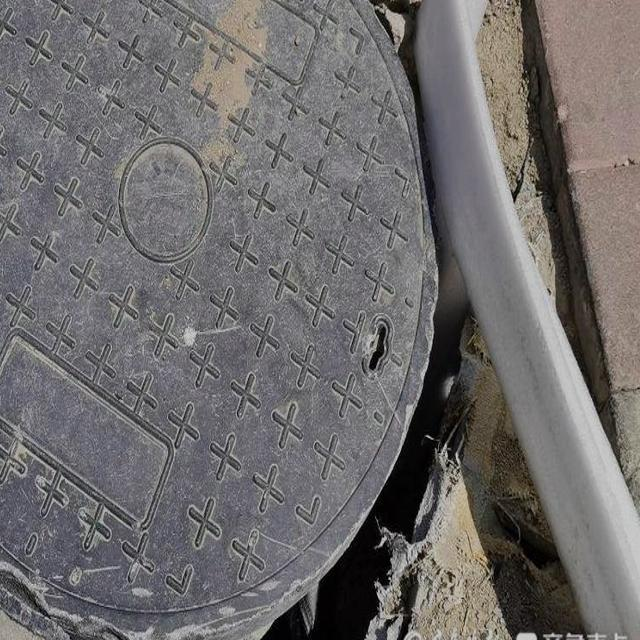circle: (0, 0, 586, 640)
